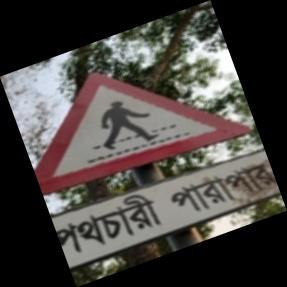Pedestrian-crossing: (33, 71, 275, 267)
